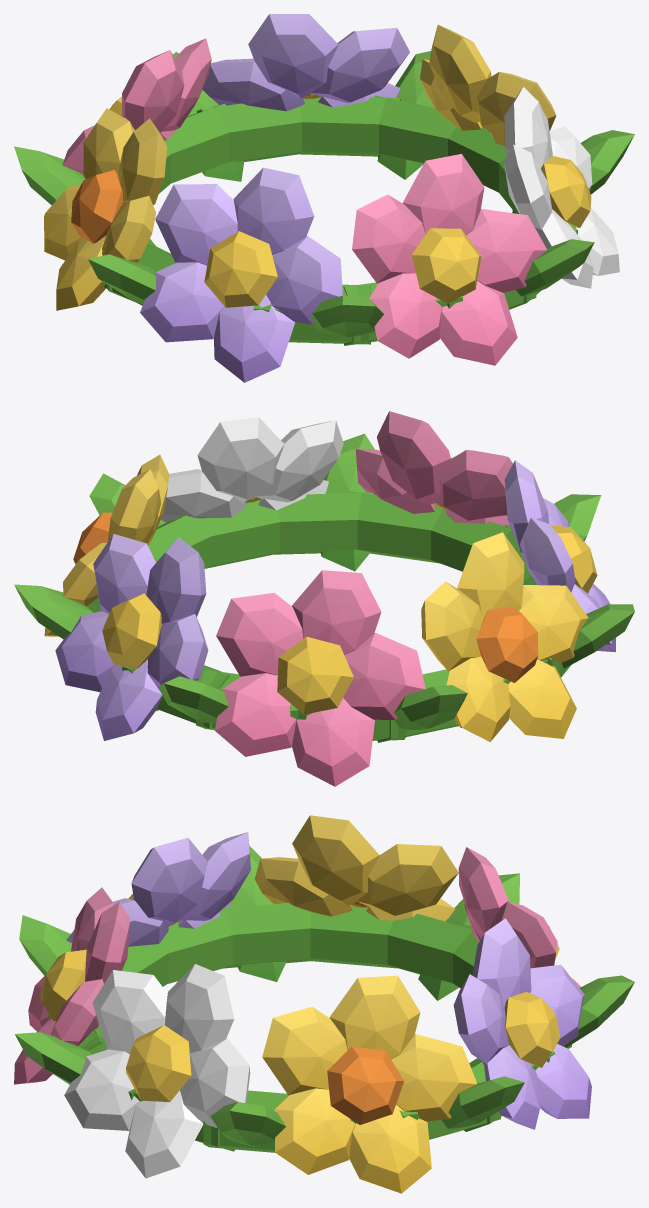
Rendered from flower_crown.glb.
3 views of the same model, one above another, from view 1: azimuth 30°, elevation 25°; view 2: azimuth 150°, elevation 25°; view 3: azimuth 270°, elevation 25° (orthographic).
Visible parts, largest first — view 1: flower_ring; view 2: flower_ring; view 3: flower_ring.
Boxes of the visible parts, box(x1,y1,x2,y2) form: flower_ring: box(14, 14, 634, 382); flower_ring: box(14, 411, 634, 786); flower_ring: box(14, 815, 634, 1193).
Size of the model in its own units: 0.6861 by 0.2087 by 0.6739.
1 material, 1 textured.
